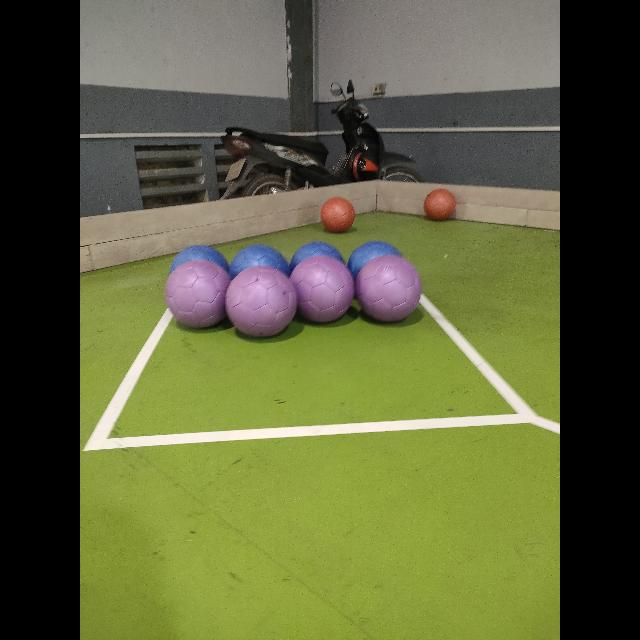B: (229, 244, 289, 280), (347, 242, 401, 278), (290, 242, 344, 274), (171, 245, 229, 273)
P: (288, 252, 356, 326), (226, 266, 296, 336), (354, 255, 422, 321), (166, 259, 230, 327)
R: (321, 198, 355, 232), (424, 188, 456, 220)
